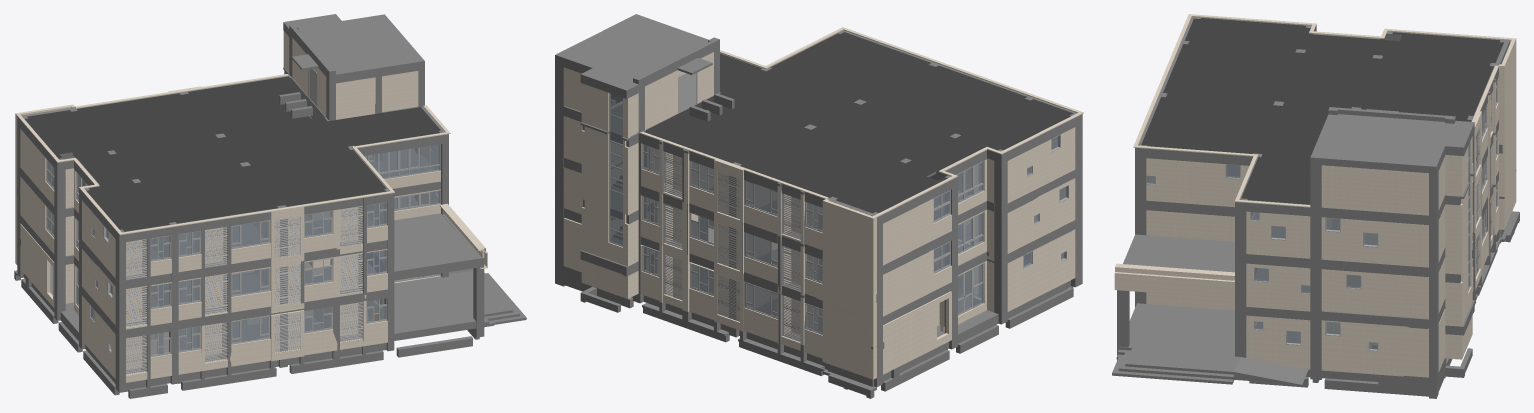
The model's file is zjss.gltf.
3 renders of one model, left to right at view 1: azimuth 30°, elevation 25°; view 2: azimuth 150°, elevation 25°; view 3: azimuth 270°, elevation 25°, orthographic. The views are drawn at different scales.
Parts seen in each view (by area): view 1: zjssdc01, zjss1c01, zjss2c01, zjss3c01; view 2: zjssdc01, zjss1c01, zjss2c01, zjss3c01; view 3: zjssdc01, zjss1c01, zjss2c01, zjss3c01.
Part boxes in pixels (x1,y1,x2,y2): zjssdc01: (17, 14, 450, 242); zjss1c01: (14, 209, 526, 398); zjss2c01: (15, 160, 487, 338); zjss3c01: (15, 74, 448, 288); zjssdc01: (555, 14, 1083, 223); zjss1c01: (555, 207, 1082, 398); zjss2c01: (555, 130, 1082, 325); zjss3c01: (555, 30, 1082, 274); zjssdc01: (1133, 14, 1510, 225); zjss1c01: (1112, 142, 1519, 398); zjss2c01: (1114, 90, 1516, 328); zjss3c01: (1135, 16, 1516, 276).
Bounding box in the file's own units: 25.62 × 13.65 × 21.34.
Materials: 7 (4 with a texture image).
